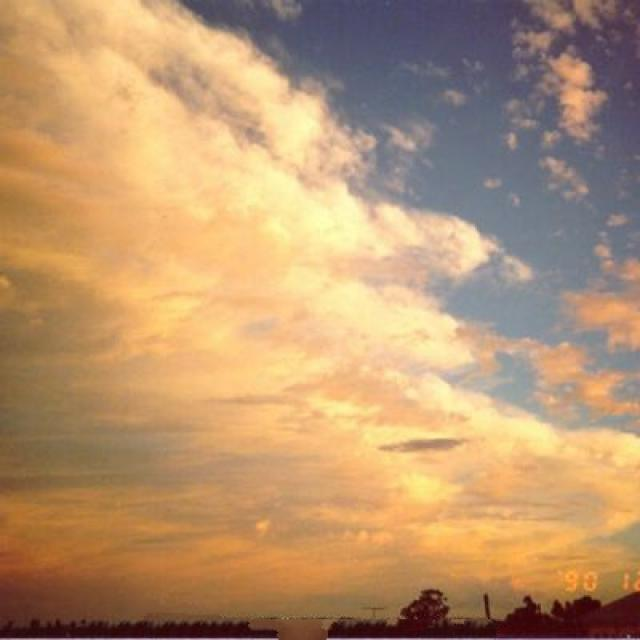As: (1, 34, 640, 450)
